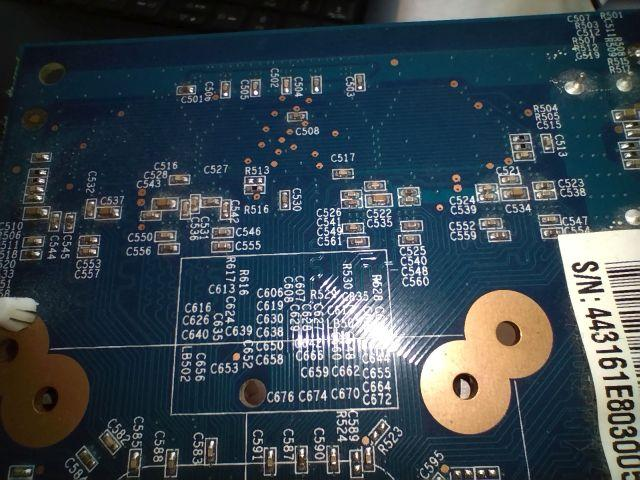capacitor: (260, 444, 287, 479), (200, 430, 221, 466), (162, 448, 182, 480), (349, 67, 370, 94)
resistor: (362, 412, 397, 451)
